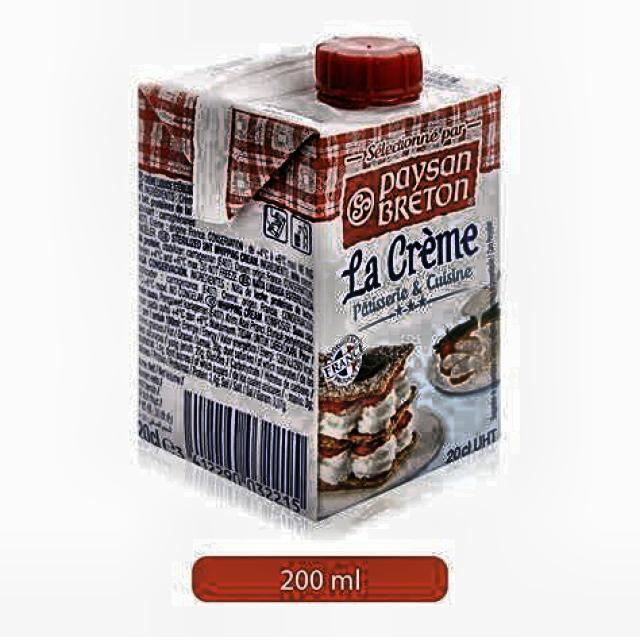cardboard: (135, 35, 502, 523)
